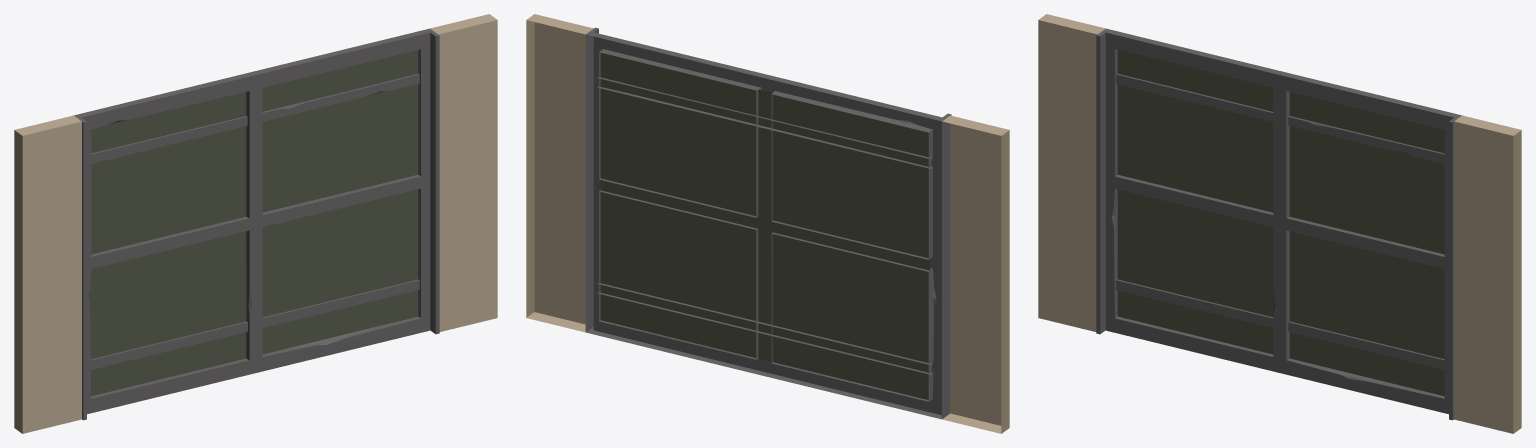
The model's file is SM_Bld_Wall_Blank_Window_03.glb.
The picture shows the model from 3 angles, left to right: view 1: azimuth 30°, elevation 25°; view 2: azimuth 150°, elevation 25°; view 3: azimuth 330°, elevation 25°; orthographic projection.
Parts seen in each view (by area): view 1: SM_Bld_Wall_Blank_Window_03, SM_Bld_Wall_Blank_Window_03_Glass; view 2: SM_Bld_Wall_Blank_Window_03_Glass, SM_Bld_Wall_Blank_Window_03; view 3: SM_Bld_Wall_Blank_Window_03, SM_Bld_Wall_Blank_Window_03_Glass.
Boxes of the visible parts, x1,y1,x2,y2 form: SM_Bld_Wall_Blank_Window_03: (14, 14, 497, 433); SM_Bld_Wall_Blank_Window_03_Glass: (89, 50, 418, 396); SM_Bld_Wall_Blank_Window_03_Glass: (600, 52, 930, 399); SM_Bld_Wall_Blank_Window_03: (526, 14, 1009, 433); SM_Bld_Wall_Blank_Window_03: (1038, 14, 1521, 433); SM_Bld_Wall_Blank_Window_03_Glass: (1117, 50, 1444, 396).
Size of the model in its own units: 5 by 3 by 0.1734.
Materials: 2 (2 with a texture image).
